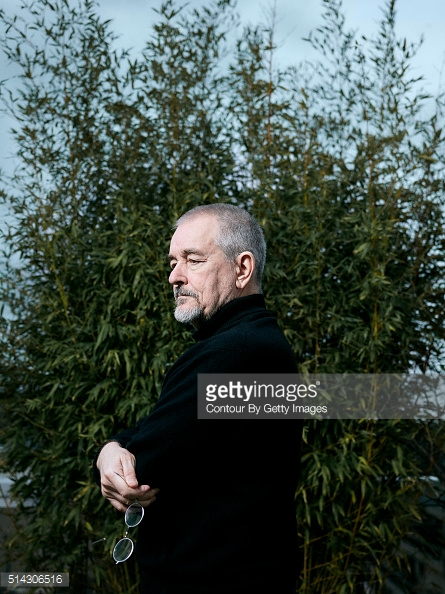em pe: (75, 179, 349, 594)
